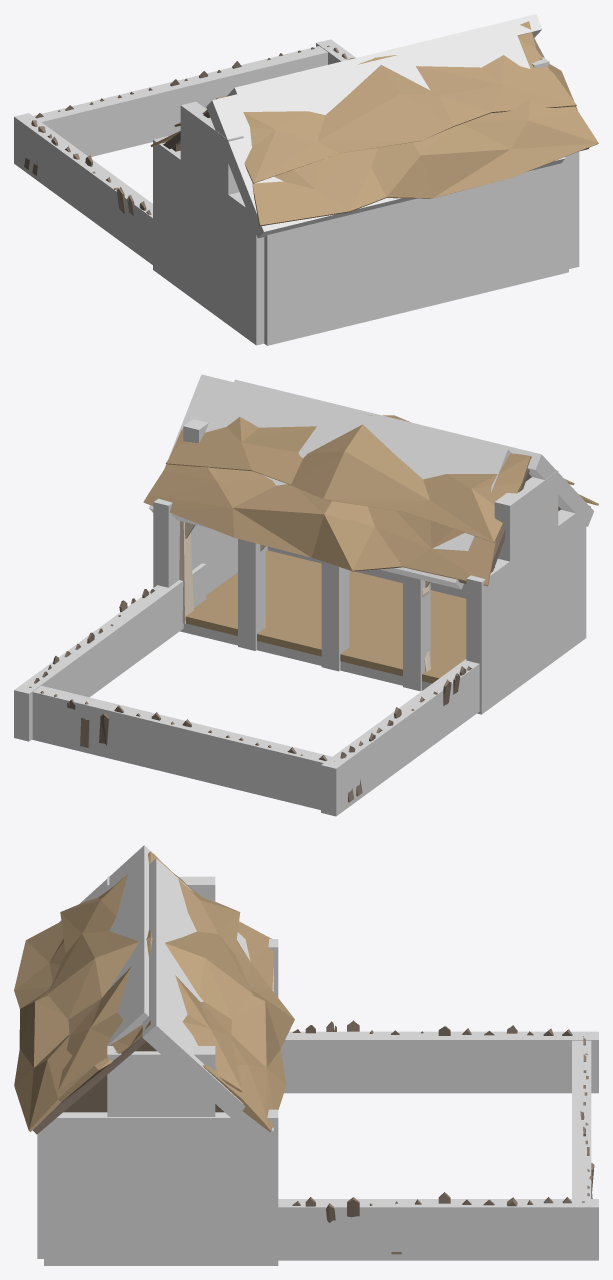
Rendered from stable.glb.
The picture shows the model from 3 angles, top to bottom: view 1: azimuth 30°, elevation 25°; view 2: azimuth 150°, elevation 25°; view 3: azimuth 270°, elevation 25°; orthographic projection. The views are drawn at different scales.
Parts seen in each view (by area): view 1: STABLE, Cube.008, Cube.005, Cube.010, Cube.001, Cube.002, Cube.006, Cube.009, Cube.004, Cube.003; view 2: STABLE, Cube.001, Cube.005, Cube.009, Cube.002, Cube.003, Cube.004, Cube.006, Cube.012, Cube.011, Cube.013, Cube.010 (+2 smaller); view 3: STABLE, Cube.004, Cube.003, Cube.002, Cube.009, Cube.007, Cube.010, Cube.001, Cube.008, Cube.006.
Part boxes in pixels (x1,y1,x2,y2): STABLE: (24, 21, 598, 226); Cube.008: (264, 155, 568, 345); Cube.005: (153, 136, 264, 345); Cube.010: (206, 26, 565, 238); Cube.001: (33, 46, 327, 156); Cube.002: (14, 113, 152, 264); Cube.006: (180, 101, 243, 199); Cube.009: (227, 14, 542, 96); Cube.004: (569, 151, 579, 268); Cube.003: (316, 39, 355, 64); STABLE: (29, 415, 598, 802); Cube.001: (32, 685, 331, 809); Cube.005: (466, 510, 586, 714); Cube.009: (149, 374, 511, 589); Cube.002: (321, 659, 479, 816); Cube.003: (14, 563, 206, 741); Cube.004: (153, 498, 267, 594); Cube.006: (494, 470, 558, 566); Cube.012: (321, 561, 349, 671); Cube.011: (238, 539, 265, 650); Cube.013: (403, 575, 430, 691); Cube.010: (234, 379, 593, 526); STABLE: (14, 851, 594, 1254); Cube.004: (44, 1109, 278, 1265); Cube.003: (278, 1199, 598, 1260); Cube.002: (281, 1031, 598, 1093); Cube.009: (142, 858, 273, 1143); Cube.007: (107, 1046, 215, 1116); Cube.010: (59, 845, 157, 1045); Cube.001: (572, 1040, 591, 1198); Cube.008: (37, 1129, 43, 1258); Cube.006: (107, 876, 215, 902).
Size of the model in its own units: 8.93 by 5.42 by 11.7.
Materials: 1 (1 with a texture image).
